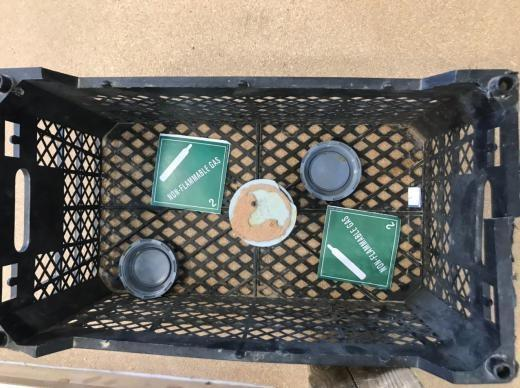non-flammable-gas: (318, 206, 401, 290), (153, 136, 228, 209)
